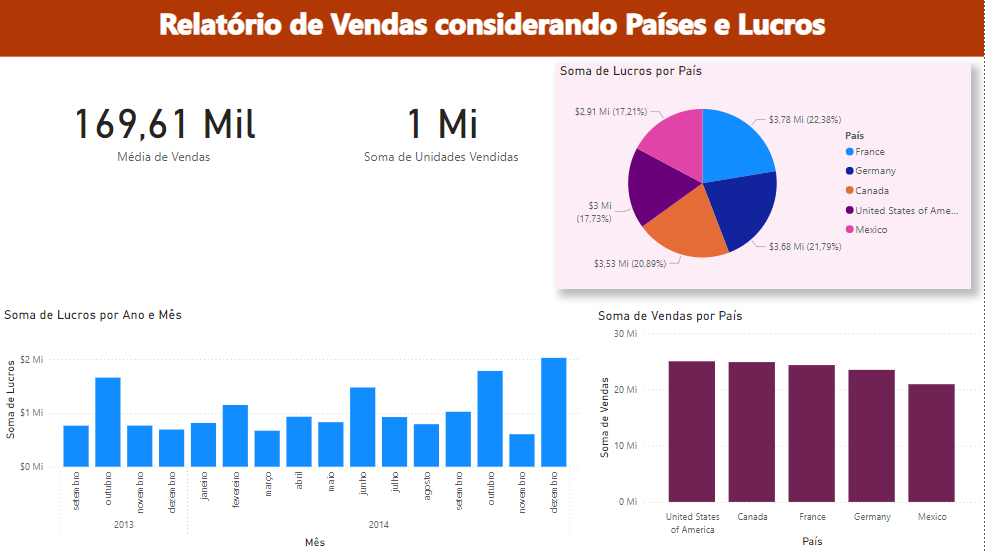

This screenshot's page, from the dashboard's own definition file:
{"tool":"powerbi","page":{"name":"Página 2","canvas":[1280,720],"ordinal":1},"visuals":[{"type":"card","fields":{"Values":["Avg(financials. Sales)"]},"box":[0,75,425.6,180.7],"z":0},{"type":"textbox","box":[0,0,1280,75.3],"z":1000},{"type":"card","fields":{"Values":["Sum(financials.Units Sold)"]},"box":[425.6,75,297,180.7],"z":2000},{"type":"pieChart","fields":{"Category":["financials.Country"],"Y":["Sum(financials.Profit)"]},"box":[723.8,83.8,540,293.8],"z":3000},{"type":"clusteredColumnChart","fields":{"Category":["financials.Date.Variation.Hierarquia de datas.Ano","financials.Date.Variation.Hierarquia de datas.Mês"],"Y":["Sum(financials.Lucros)"]},"box":[0,401.2,758.8,318.8],"z":4000},{"type":"clusteredColumnChart","fields":{"Category":["financials.País"],"Y":["Sum(financials.Vendas)"]},"box":[772.5,402.5,507.5,316.2],"z":5000}]}

Visuals, with their boxes in screenshot pixels (x1, y1, x2, y2), scaled from the page's 1280x720 canvas onto the 985x552 screenshot:
card - Avg(financials. Sales): bbox=[0, 58, 328, 196]
textbox: bbox=[0, 0, 984, 58]
card - Sum(financials.Units Sold): bbox=[328, 58, 556, 196]
pieChart - financials.Country x Sum(financials.Profit): bbox=[557, 64, 973, 289]
clusteredColumnChart - financials.Date.Variation.Hierarquia de datas.Ano x financials.Date.Variation.Hierarquia de datas.Mês: bbox=[0, 308, 584, 551]
clusteredColumnChart - financials.País x Sum(financials.Vendas): bbox=[594, 309, 984, 551]
